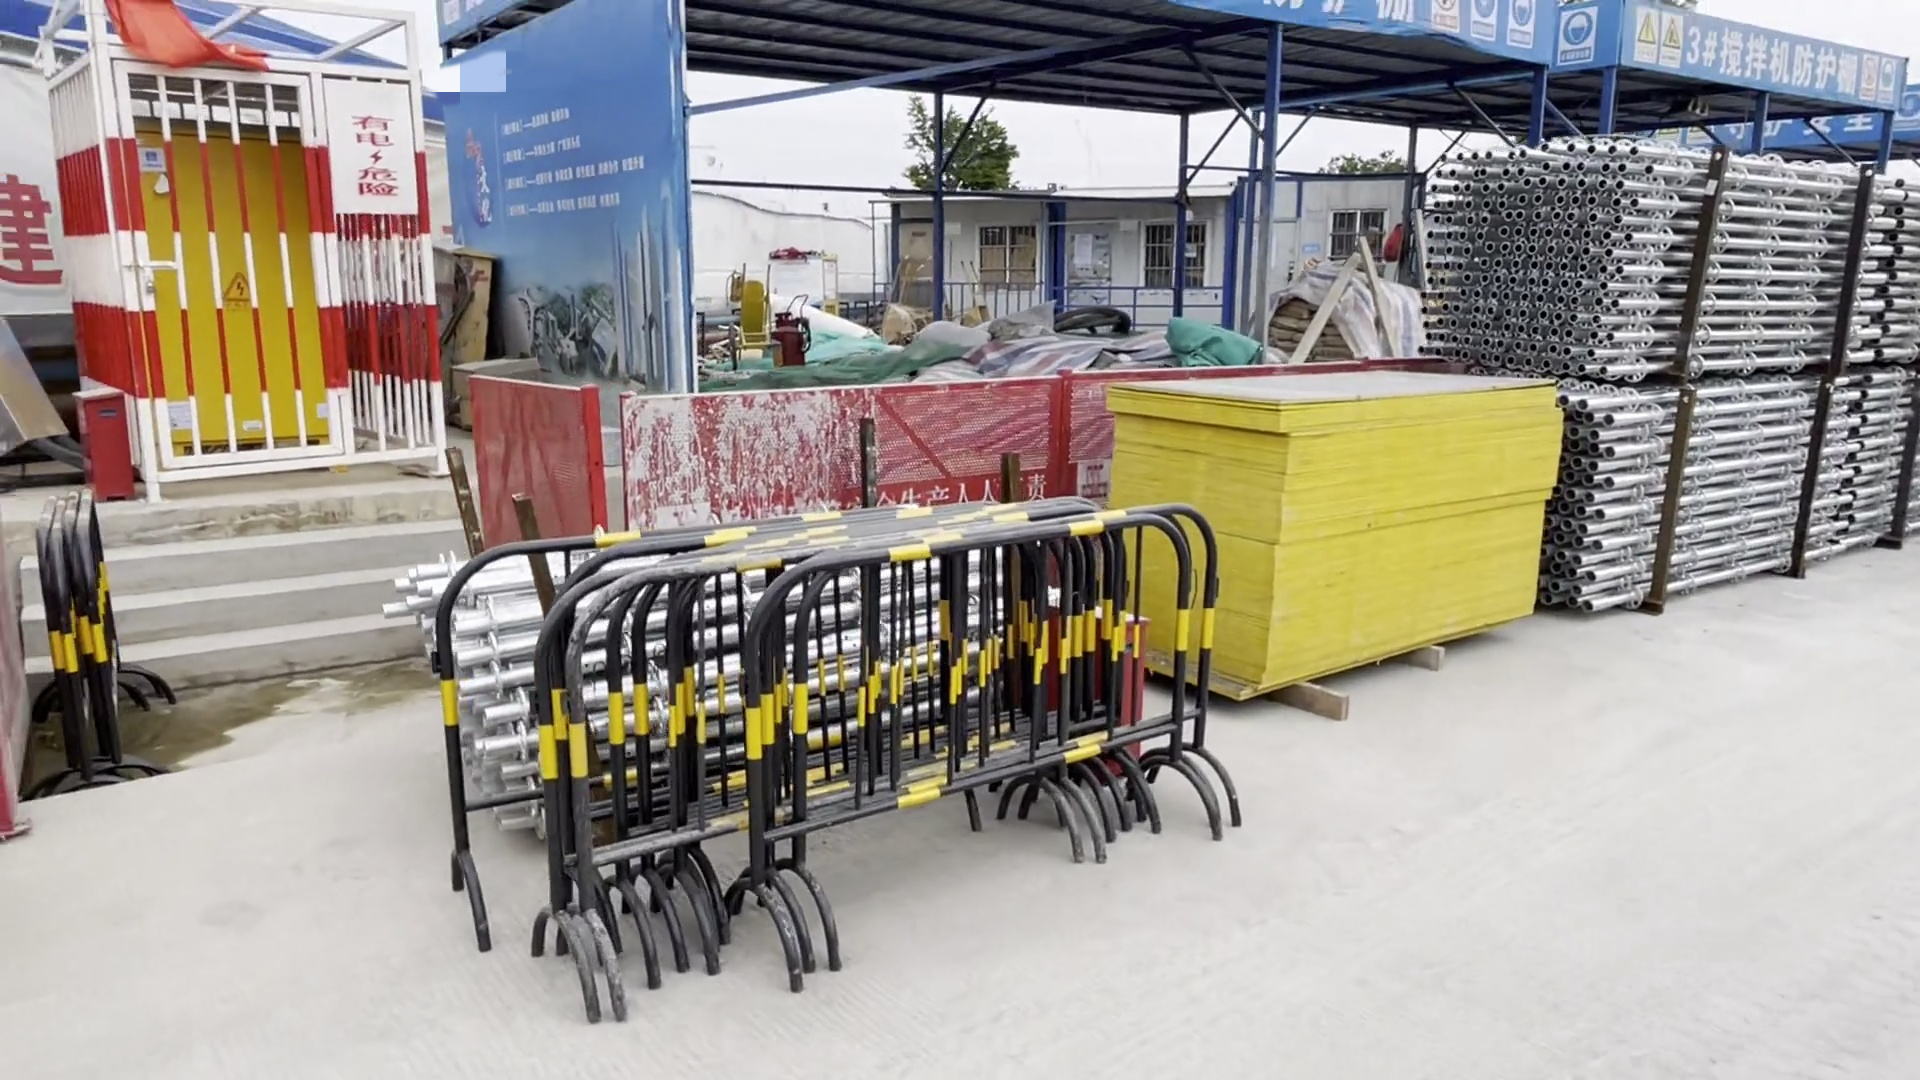board: (1081, 368, 1567, 671)
ebox: (129, 132, 348, 469)
fence: (578, 542, 1203, 885), (510, 371, 1048, 533)
scaffold: (1429, 149, 1920, 578)
slogan: (1374, 1, 1902, 121)
